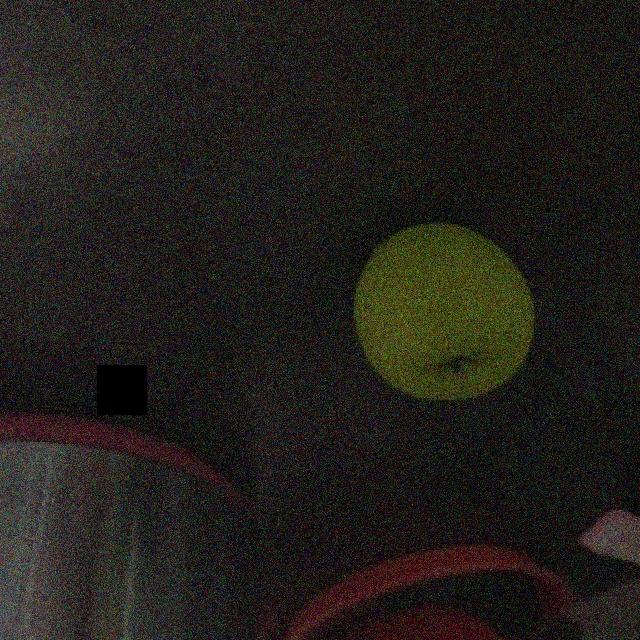green apple: (350, 220, 537, 402)
